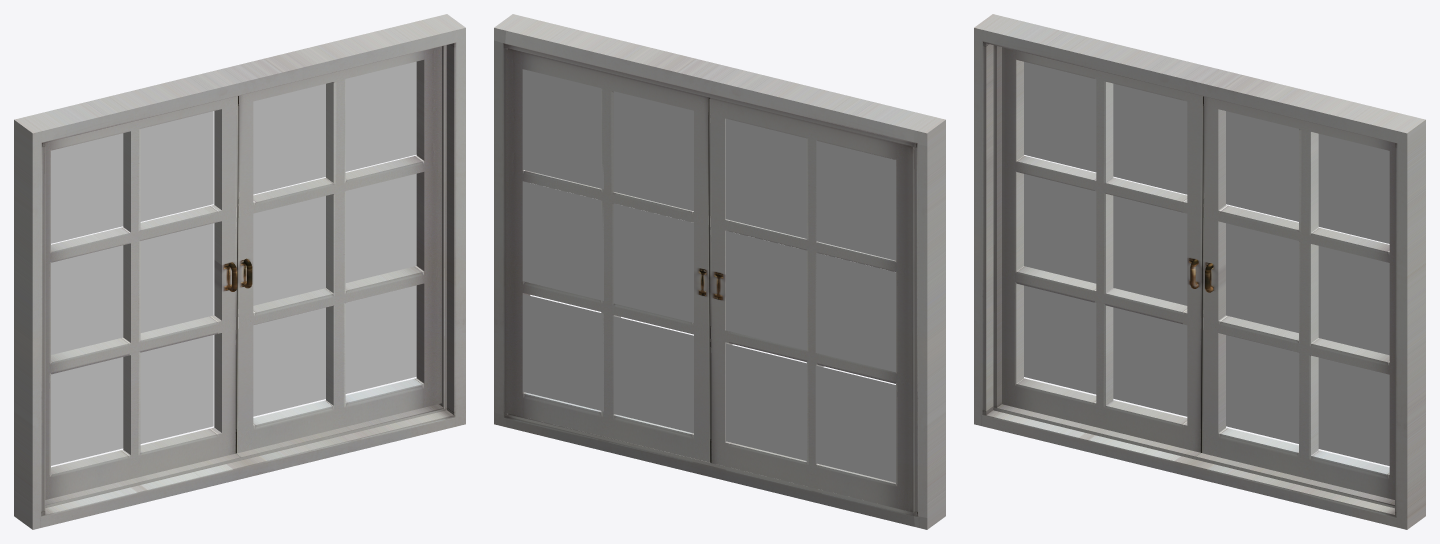
File: not_see_through_window.glb
3 views of the same model, side by side, from view 1: azimuth 30°, elevation 25°; view 2: azimuth 150°, elevation 25°; view 3: azimuth 330°, elevation 25° (orthographic).
Visible parts, largest first — view 1: RightWindow, LeftWindow, frame; view 2: RightWindow, LeftWindow, frame; view 3: LeftWindow, RightWindow, frame.
Boxes of the visible parts, <box> form: RightWindow: <box>237,46,441,452</box>; LeftWindow: <box>45,96,237,499</box>; frame: <box>14,14,465,529</box>; RightWindow: <box>505,49,709,462</box>; LeftWindow: <box>709,99,910,511</box>; frame: <box>494,14,945,529</box>; LeftWindow: <box>1002,47,1202,452</box>; RightWindow: <box>1202,96,1394,499</box>; frame: <box>974,14,1425,529</box>.
Size of the model in its own units: 4.99 by 4.36 by 0.3925.
Materials: 3 (2 with a texture image).
